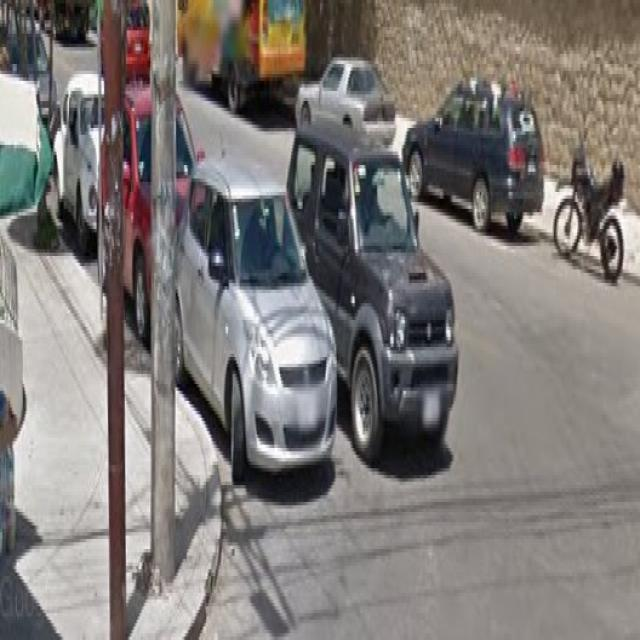Car: (178, 137, 337, 469), (297, 118, 461, 435), (438, 65, 540, 238), (117, 91, 165, 328), (308, 19, 392, 154), (64, 70, 96, 245)
